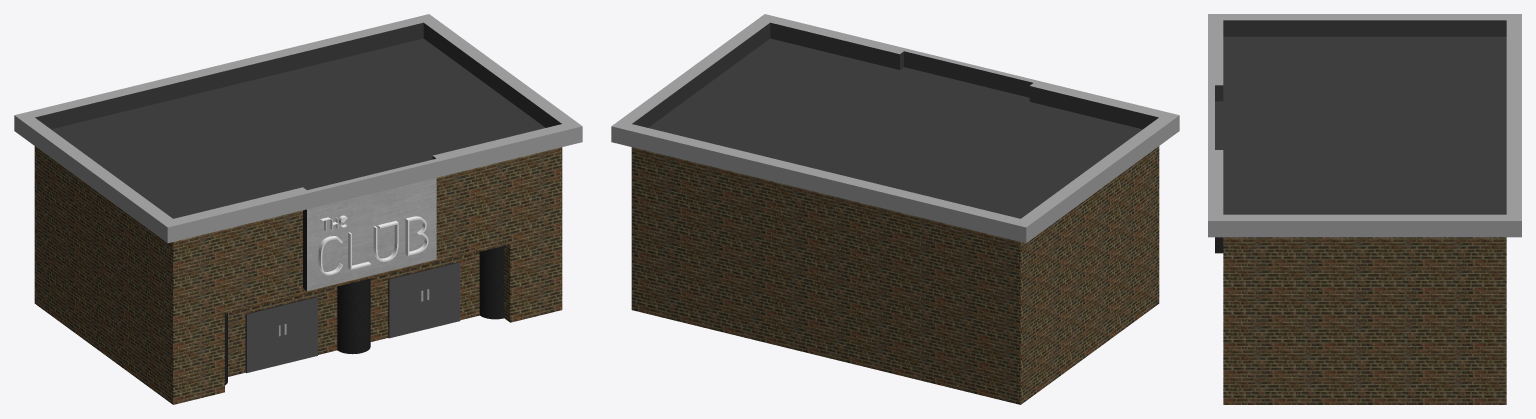
Rendered from Club.dae.
3 views of the same model, side by side, from view 1: azimuth 30°, elevation 25°; view 2: azimuth 150°, elevation 25°; view 3: azimuth 270°, elevation 25° (orthographic). The views are drawn at different scales.
Visible parts, largest first — view 1: SketchUp (×8); view 2: SketchUp (×3); view 3: SketchUp (×3).
Part boxes in pixels (left/top/right/bottom): SketchUp (×8): left=14, top=14, right=582, bottom=404; SketchUp (×3): left=611, top=14, right=1179, bottom=404; SketchUp (×3): left=1208, top=14, right=1521, bottom=404.
Size of the model in its own units: 126 by 80.71 by 54.
8 materials, 3 textured.
